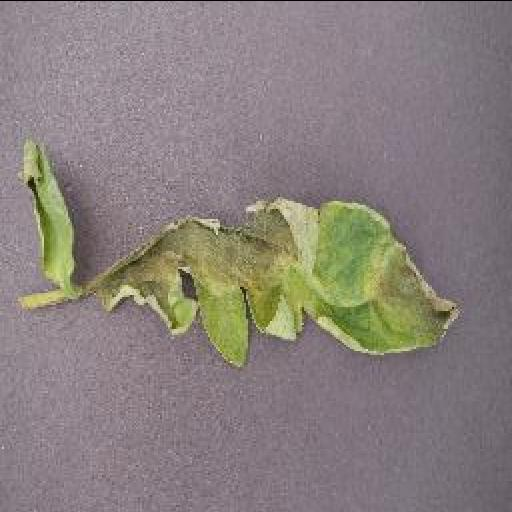disease_tomato: (84, 192, 456, 370), (18, 136, 76, 282)
